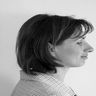ear: (42, 38, 61, 60)
